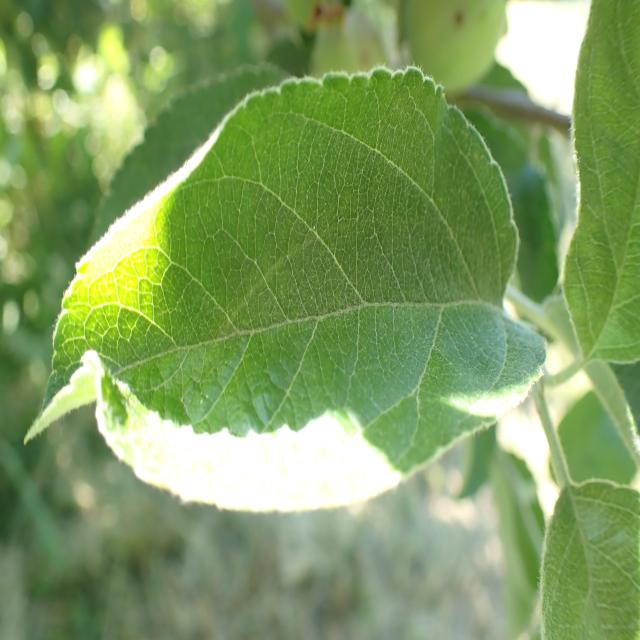healthy: (21, 65, 549, 515), (560, 0, 640, 363), (538, 479, 640, 639)
